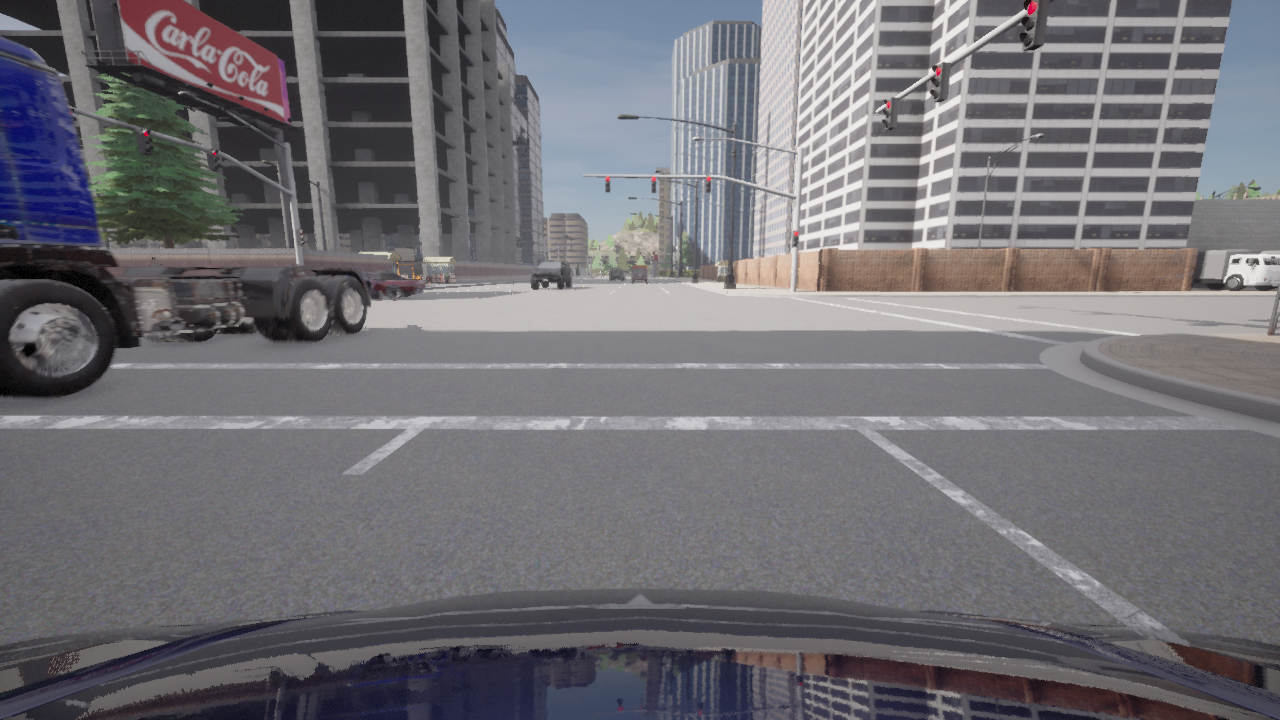cyclist: (0, 588, 1279, 719), (0, 36, 381, 398), (1192, 250, 1279, 290), (361, 271, 425, 299), (531, 262, 571, 288), (1260, 250, 1279, 287), (632, 270, 647, 282), (609, 268, 624, 280), (633, 265, 646, 271), (632, 267, 647, 272), (613, 278, 617, 280)
pedestrian: (147, 256, 163, 265)
